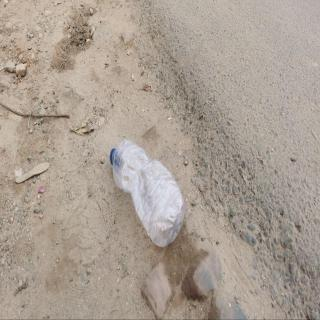Plastic-bottle: (110, 136, 187, 250)
